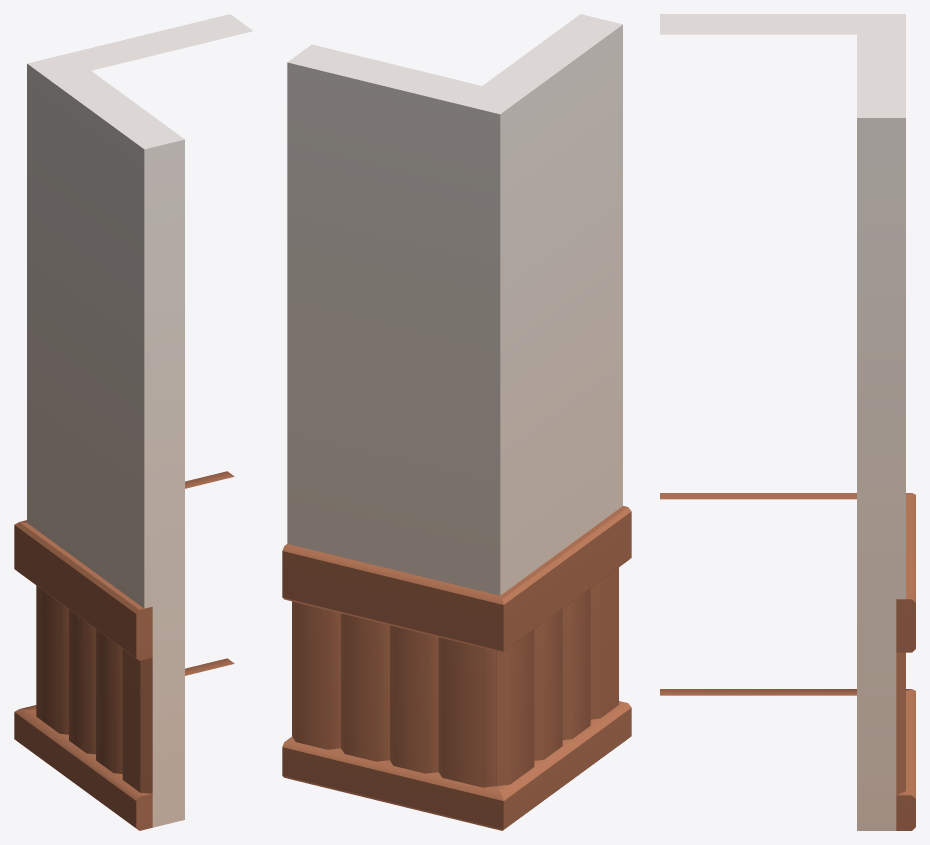
File: wall-modular-panelled-bakery-half-corner-outer-a.glb
The picture shows the model from 3 angles, left to right: view 1: azimuth 30°, elevation 25°; view 2: azimuth 150°, elevation 25°; view 3: azimuth 270°, elevation 25°; orthographic projection. The views are drawn at different scales.
Visible parts, largest first — view 1: wall_modular_panelled_bakery_half_corner_outer_A; view 2: wall_modular_panelled_bakery_half_corner_outer_A; view 3: wall_modular_panelled_bakery_half_corner_outer_A.
Part boxes in pixels (<box>): wall_modular_panelled_bakery_half_corner_outer_A: <box>14,14,253,830</box>; wall_modular_panelled_bakery_half_corner_outer_A: <box>282,14,631,830</box>; wall_modular_panelled_bakery_half_corner_outer_A: <box>660,14,915,830</box>.
Size of the model in its own units: 1.3 by 4 by 1.3.
Materials: 1 (1 with a texture image).
